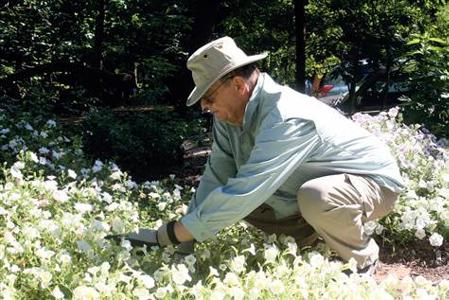person: (132, 36, 402, 278)
